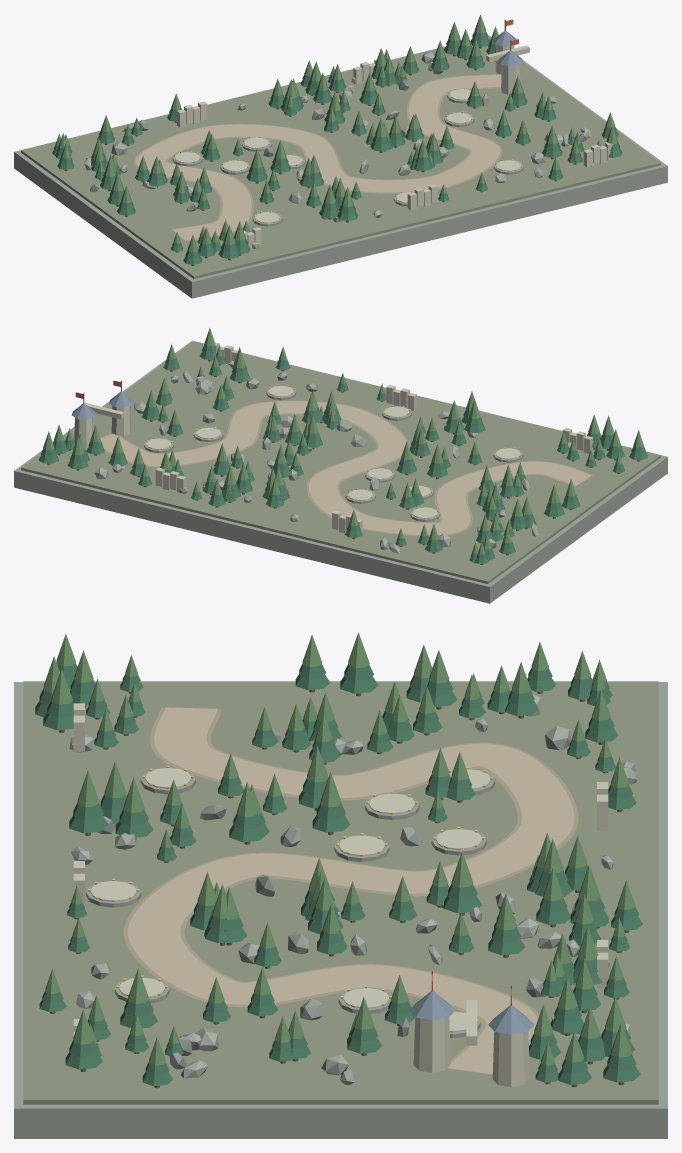
File: 05_Crownfall.fbx
3 views of the same model, one above another, from view 1: azimuth 30°, elevation 25°; view 2: azimuth 150°, elevation 25°; view 3: azimuth 270°, elevation 25° (orthographic). The views are drawn at different scales.
Parts seen in each view (by area): view 1: Ground, Scenery, Road, RoadBorder; view 2: Ground, Scenery, Road, RoadBorder; view 3: Ground, Scenery, Road, RoadBorder, Pad_02, Pad_06, Pad_05, Pad_04, Pad_01, Pad_08, Pad_07.
Boxes of the visible parts, bbox=[...] form: Ground: bbox=[14, 35, 667, 298]; Scenery: bbox=[52, 14, 622, 266]; Road: bbox=[136, 74, 501, 240]; RoadBorder: bbox=[134, 74, 502, 241]; Ground: bbox=[14, 340, 667, 603]; Scenery: bbox=[38, 328, 647, 564]; Road: bbox=[100, 401, 591, 534]; RoadBorder: bbox=[104, 400, 592, 536]; Ground: bbox=[14, 681, 667, 1138]; Scenery: bbox=[35, 632, 642, 1088]; Road: bbox=[128, 707, 574, 1074]; RoadBorder: bbox=[123, 708, 578, 1074]; Pad_02: bbox=[364, 791, 419, 820]; Pad_06: bbox=[86, 878, 141, 907]; Pad_05: bbox=[334, 833, 389, 861]; Pad_04: bbox=[431, 826, 486, 855]; Pad_01: bbox=[140, 765, 195, 794]; Pad_08: bbox=[338, 985, 391, 1013]; Pad_07: bbox=[114, 975, 169, 1003].
Bounding box in the file's own units: 54 × 7.6 × 35.
